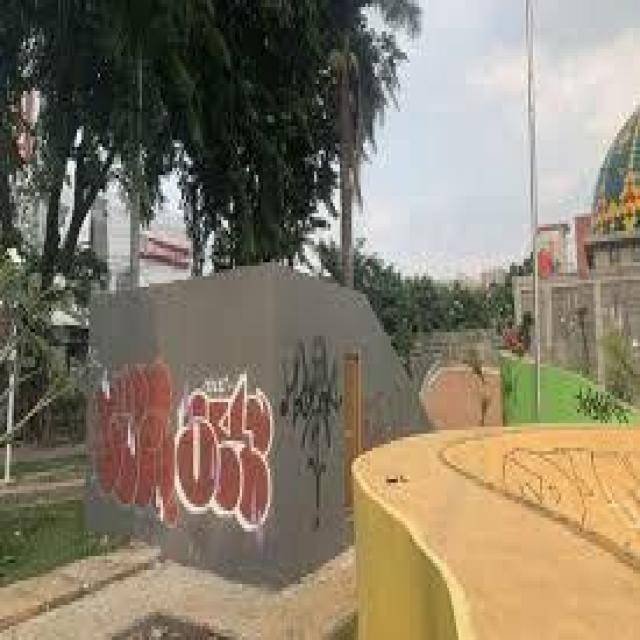nonspitting: (93, 353, 276, 531), (498, 440, 640, 552), (279, 339, 343, 533)
